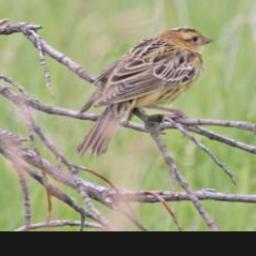Sparrow: (74, 26, 216, 161)
